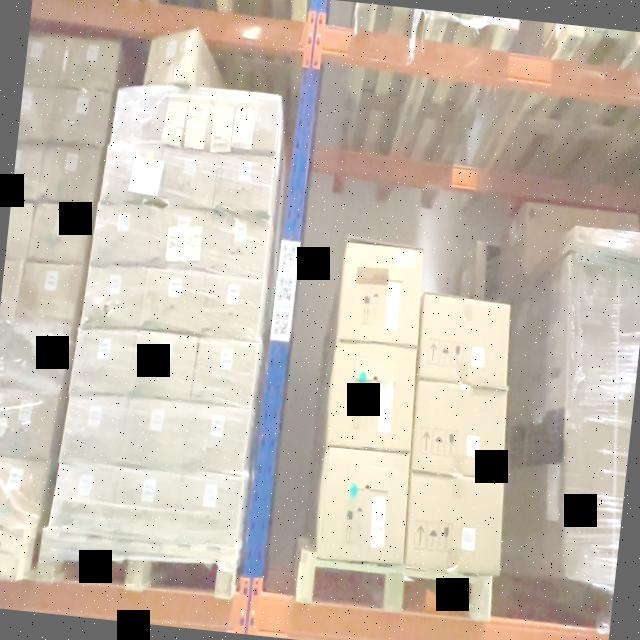box: (316, 450, 407, 562), (327, 342, 418, 452), (406, 476, 503, 570), (338, 242, 424, 348), (413, 384, 508, 479), (418, 297, 510, 383), (180, 476, 243, 544), (114, 473, 180, 536), (80, 266, 144, 329), (69, 332, 134, 394), (60, 400, 125, 462), (55, 466, 115, 530), (193, 339, 257, 398), (185, 408, 247, 468), (125, 405, 185, 465), (133, 341, 194, 399), (201, 276, 262, 334), (218, 96, 276, 152), (92, 210, 152, 264), (143, 274, 202, 328), (205, 218, 266, 270), (106, 145, 160, 202), (114, 90, 172, 142), (160, 150, 213, 206), (216, 158, 273, 210), (172, 92, 218, 150), (152, 215, 204, 266), (147, 34, 198, 79), (172, 112, 172, 113)
